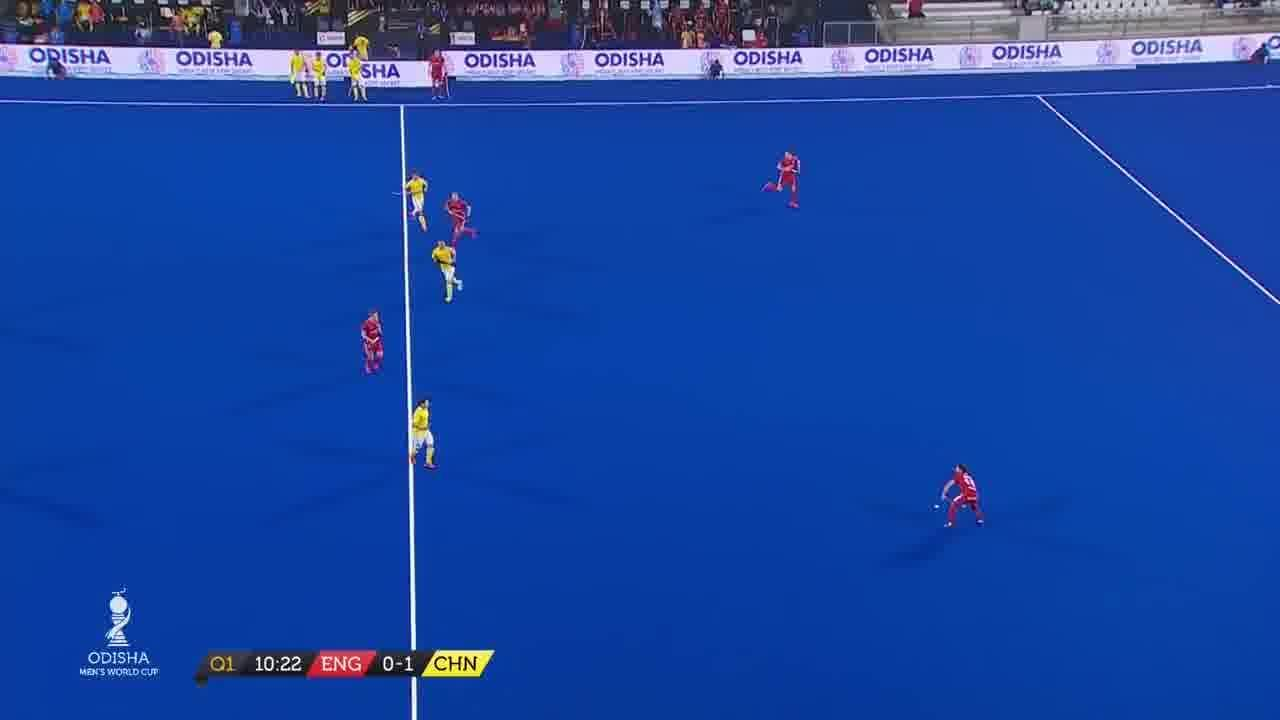ball: (930, 499, 941, 514)
